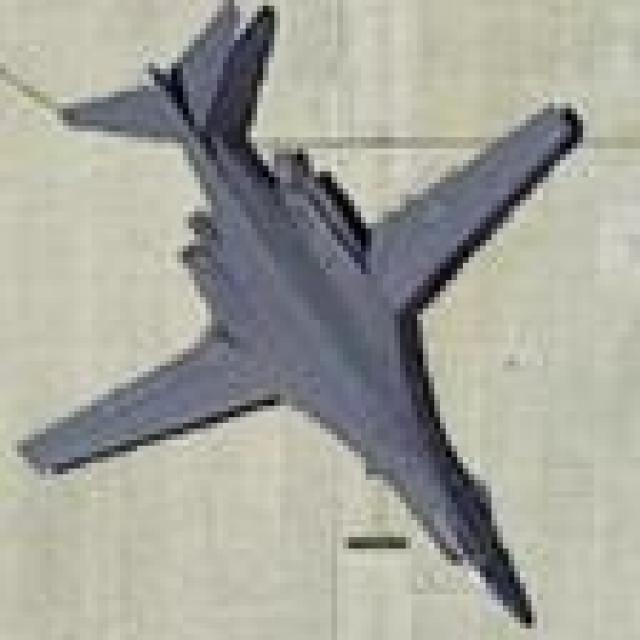B-1_TopDown: (0, 0, 589, 629)
